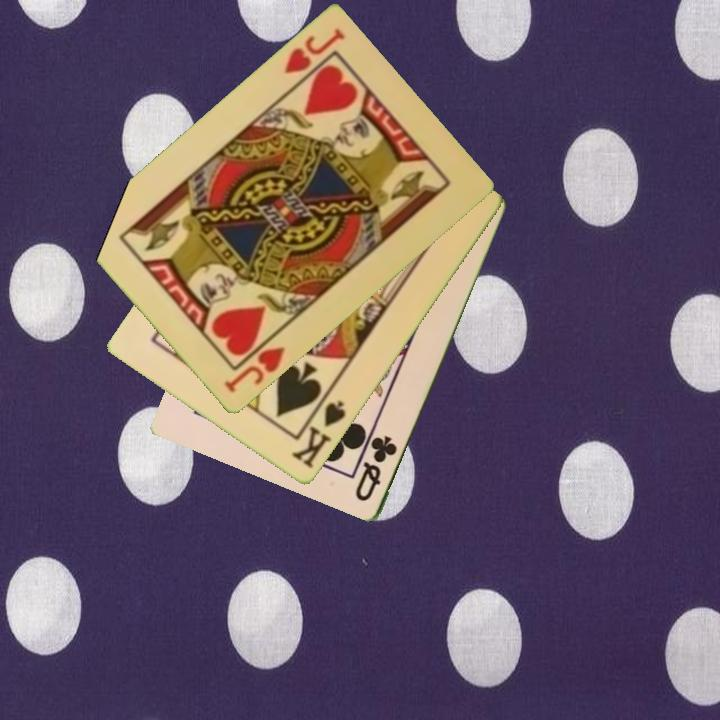Jh: (220, 329, 288, 396), (280, 25, 348, 78)
Ks: (288, 397, 349, 472)
Qc: (352, 432, 401, 505)
